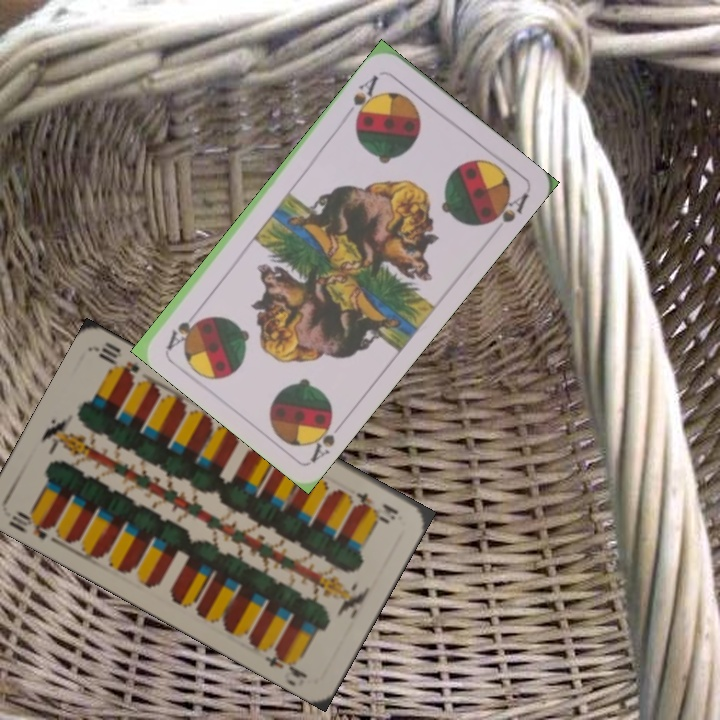E10: (5, 507, 62, 543), (352, 488, 401, 524)
SA: (302, 409, 338, 465), (348, 70, 381, 124)
